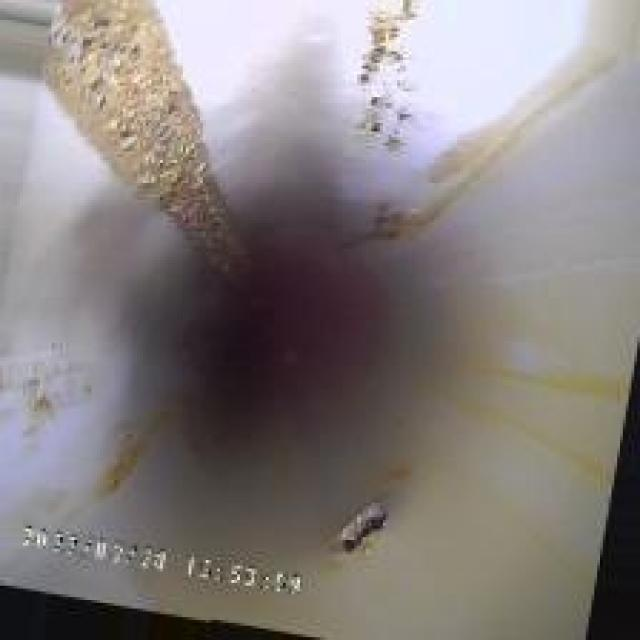ferrule: (332, 492, 388, 554)
